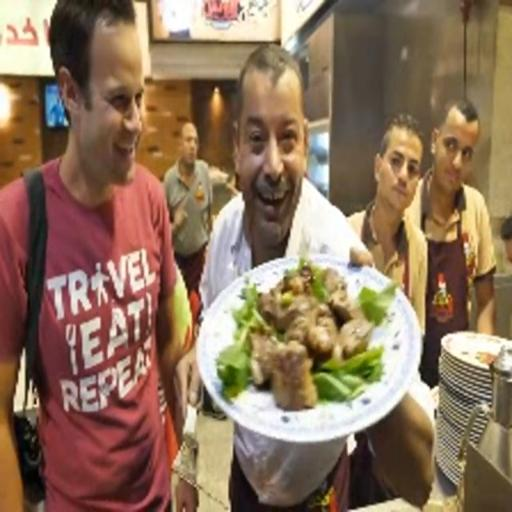nao-violencia: (0, 0, 449, 512)
